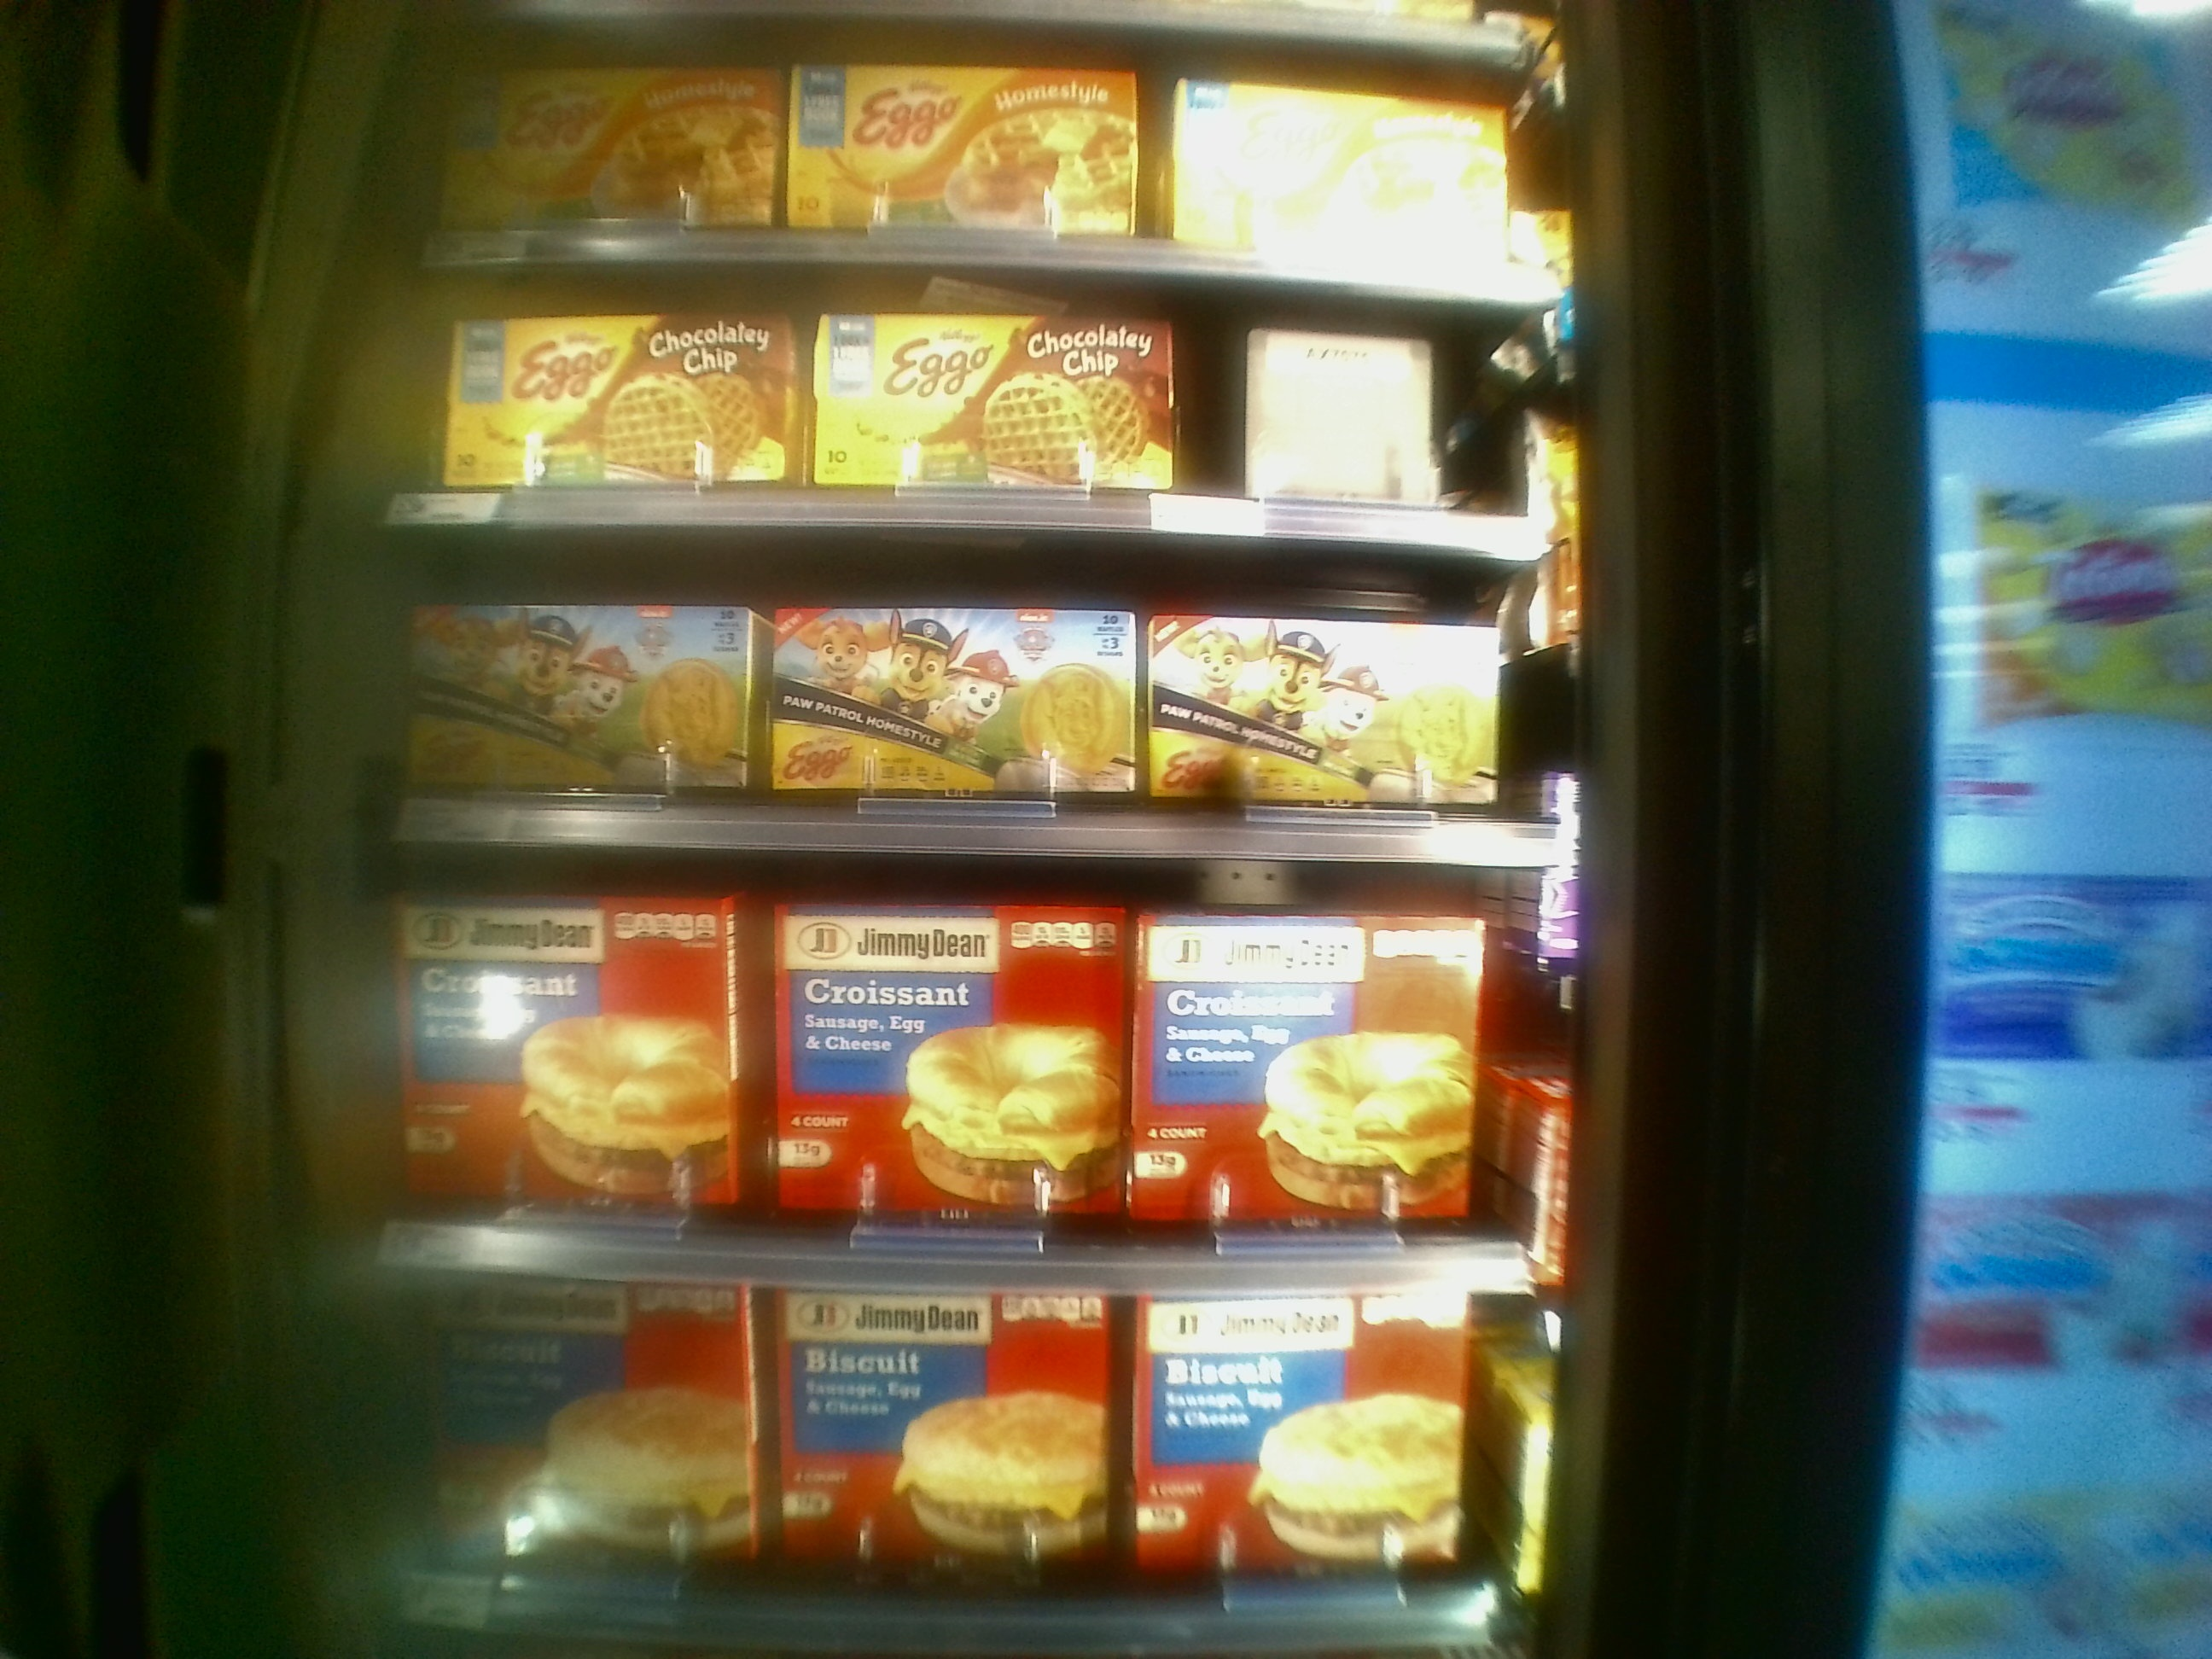shelf: (381, 871, 1531, 1283), (383, 538, 1569, 870), (388, 272, 1559, 554), (374, 30, 1555, 305)
